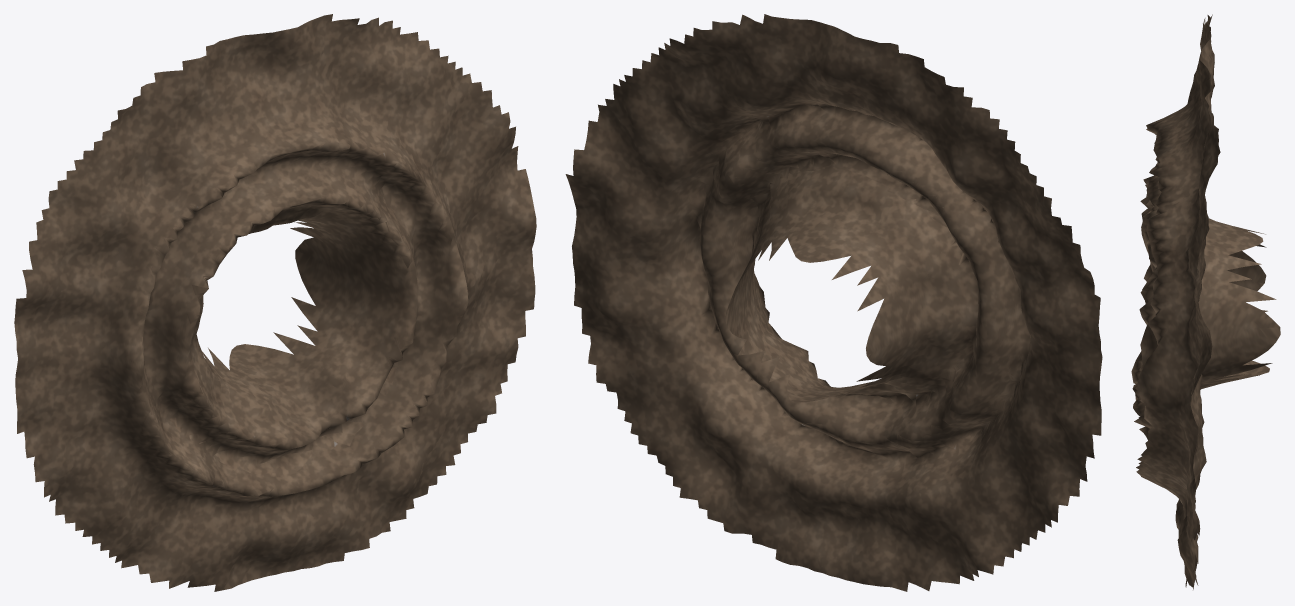
The model's file is heartbase.glb.
3 renders of one model, left to right at view 1: azimuth 30°, elevation 25°; view 2: azimuth 150°, elevation 25°; view 3: azimuth 270°, elevation 25°, orthographic. The views are drawn at different scales.
Parts seen in each view (by area): view 1: EarthenRingGround; view 2: EarthenRingGround; view 3: EarthenRingGround.
Part boxes in pixels (<box>): EarthenRingGround: <box>14,14,536,591</box>; EarthenRingGround: <box>565,14,1102,591</box>; EarthenRingGround: <box>1131,14,1280,589</box>.
Size of the model in its own units: 13.28 by 13.28 by 3.54.
Materials: 1 (1 with a texture image).
